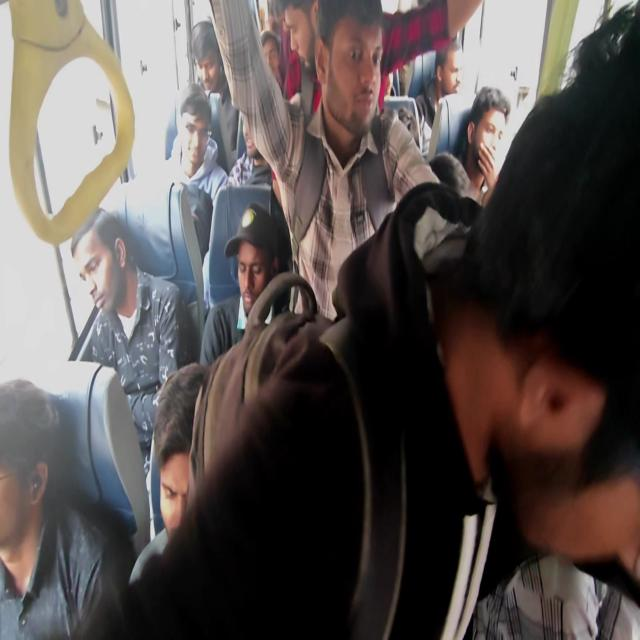person: (557, 76, 640, 639), (158, 372, 312, 640), (0, 406, 57, 640), (327, 14, 396, 134), (226, 216, 293, 320), (166, 96, 236, 193), (69, 214, 134, 310), (479, 86, 513, 193), (188, 23, 229, 101), (285, 9, 329, 74), (236, 110, 276, 181), (438, 48, 476, 110), (254, 34, 292, 82)
